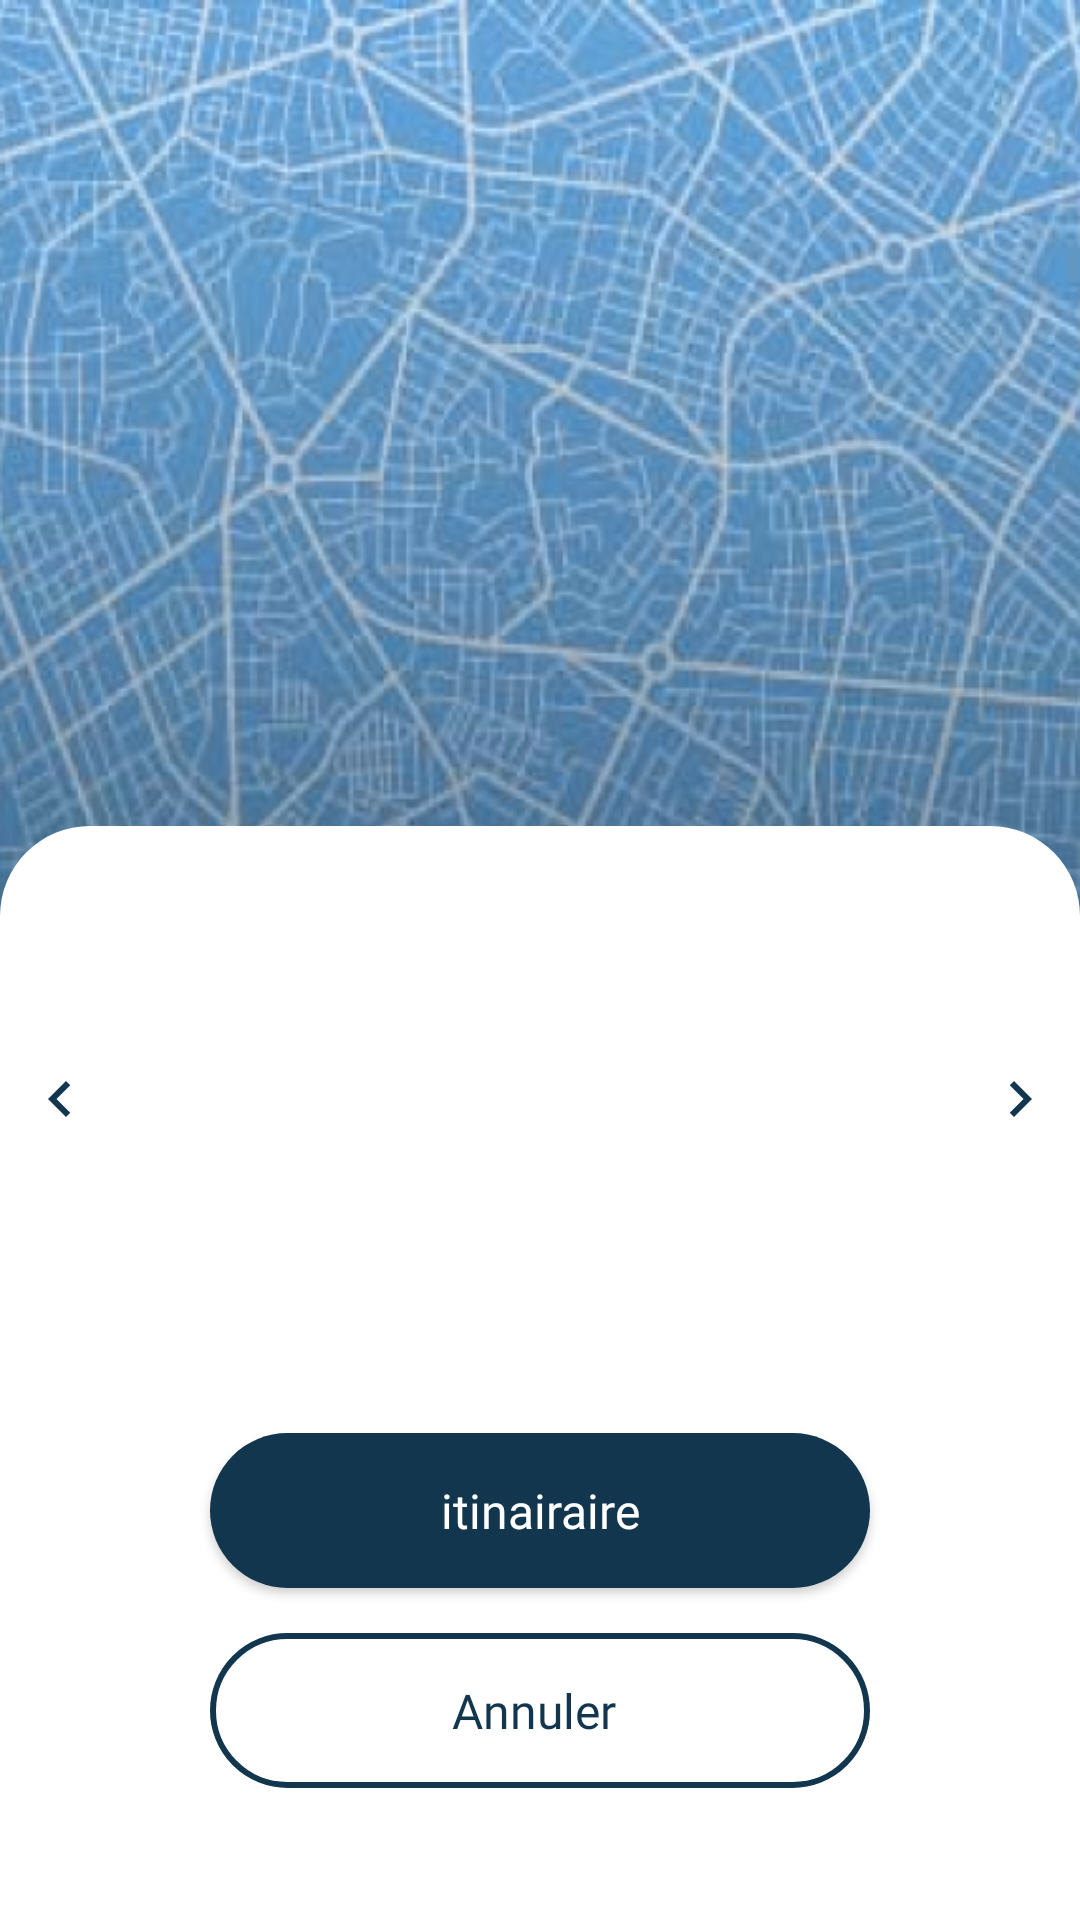

Named icons in this screenshot (1080×1920) and their bounding boxes, [x1, y1, x2, y2]:
navigate before: [48, 1081, 70, 1117]
navigate next: [1010, 1081, 1032, 1117]
